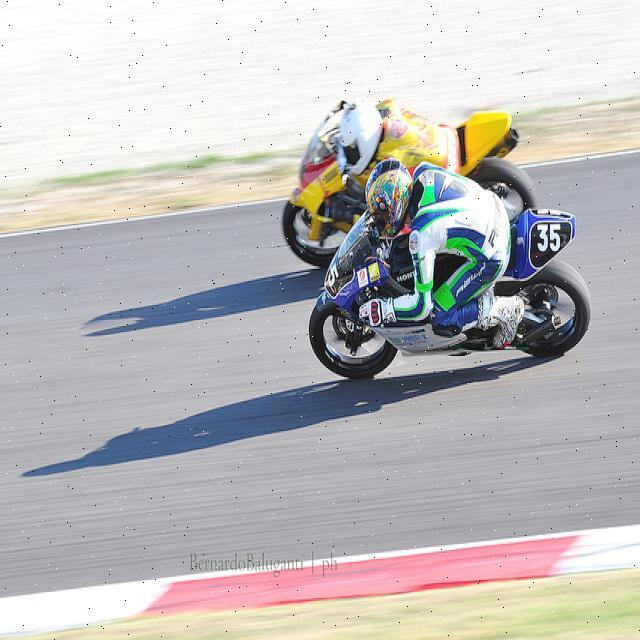motorcycle: (297, 150, 575, 390)
